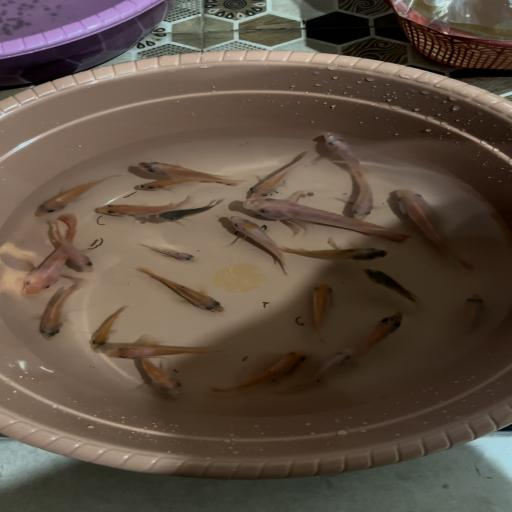nila: (241, 195, 407, 242), (387, 188, 477, 270), (15, 214, 79, 300), (208, 349, 310, 396), (133, 266, 226, 314), (35, 172, 125, 219), (224, 215, 291, 276), (247, 152, 323, 199), (32, 281, 87, 342), (291, 347, 357, 396), (358, 267, 428, 313), (134, 158, 242, 186), (93, 194, 196, 223), (352, 312, 408, 363), (46, 220, 96, 274), (300, 282, 342, 345), (99, 340, 225, 361), (82, 304, 134, 351), (318, 130, 372, 174), (132, 358, 186, 400), (284, 243, 389, 264), (156, 198, 227, 229), (346, 172, 380, 222), (457, 290, 489, 338), (134, 242, 202, 264), (130, 178, 204, 197)
